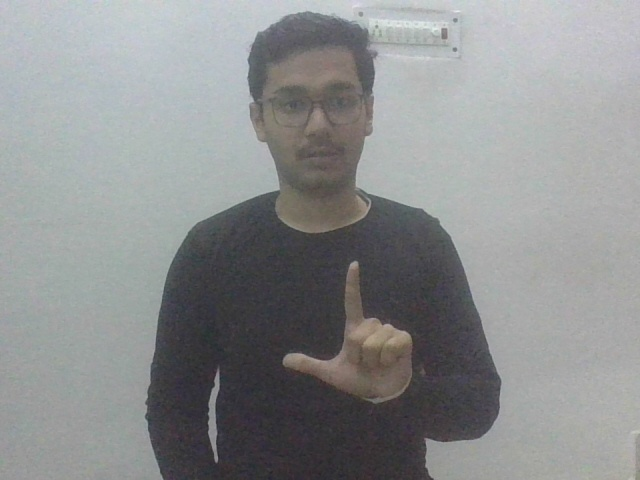L: (279, 255, 416, 408)
